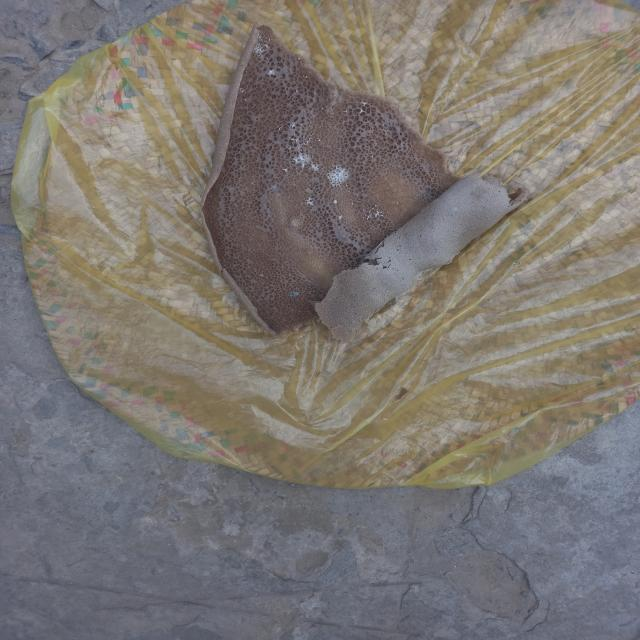injera_mold: (292, 153, 321, 172), (326, 164, 353, 184), (364, 205, 385, 221), (255, 36, 264, 58), (287, 289, 301, 299), (287, 135, 301, 144), (306, 197, 316, 207), (289, 120, 299, 130), (304, 138, 312, 148), (330, 198, 339, 206), (315, 136, 324, 144), (237, 87, 247, 94), (240, 97, 250, 104), (357, 108, 367, 114), (268, 69, 275, 77), (451, 206, 458, 214), (269, 185, 279, 190), (337, 214, 344, 221), (301, 74, 309, 80), (283, 167, 289, 174), (265, 40, 269, 50), (361, 100, 367, 106), (244, 66, 247, 78), (396, 200, 400, 208), (294, 89, 300, 94), (286, 146, 292, 150), (292, 131, 298, 135), (351, 201, 355, 206), (278, 126, 282, 131), (338, 188, 344, 191), (342, 317, 346, 321), (344, 110, 348, 114), (386, 290, 390, 293), (352, 328, 358, 330), (366, 178, 369, 182), (371, 155, 374, 159), (396, 143, 398, 149), (297, 146, 301, 149), (279, 133, 283, 136), (297, 57, 301, 60), (360, 316, 362, 321), (341, 235, 346, 237), (310, 134, 315, 136), (321, 107, 324, 110), (372, 278, 374, 282), (378, 299, 382, 301), (352, 321, 356, 323), (385, 177, 387, 181), (299, 149, 303, 151), (345, 324, 346, 330), (329, 298, 332, 300), (345, 312, 348, 314), (353, 227, 355, 230), (360, 245, 363, 247), (296, 172, 299, 174), (305, 175, 307, 178), (251, 182, 254, 184), (308, 124, 310, 127), (266, 57, 268, 60), (278, 66, 280, 69), (247, 53, 250, 55), (253, 92, 256, 94), (378, 224, 380, 226), (316, 191, 318, 193), (300, 124, 304, 125), (365, 311, 368, 312), (369, 289, 372, 290), (326, 222, 329, 223), (273, 62, 276, 63), (374, 187, 376, 188)
